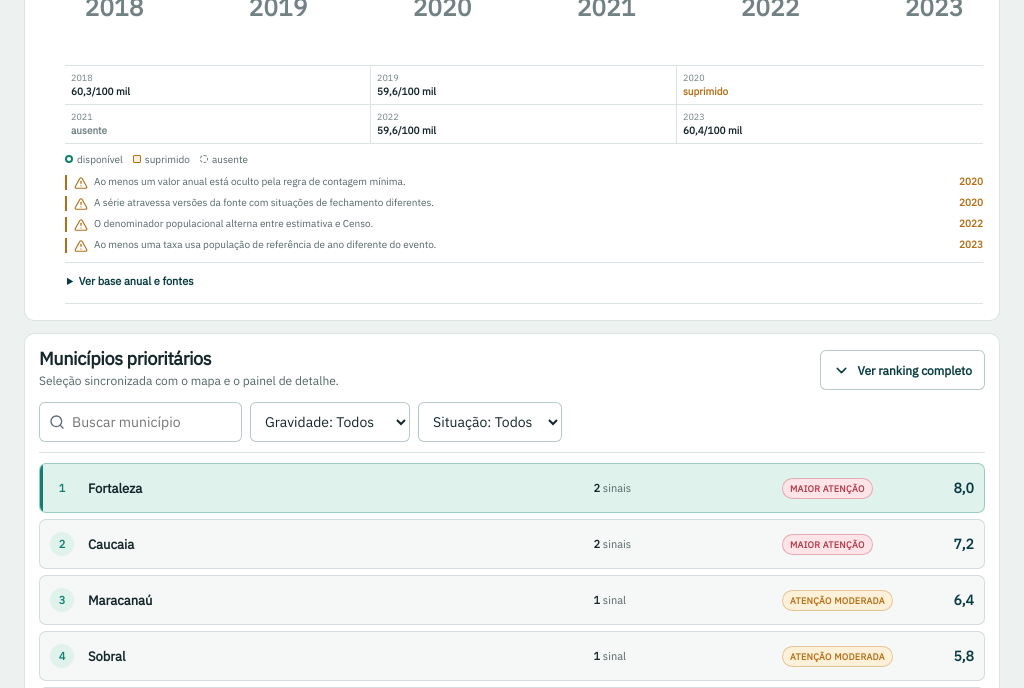
Test case: App › keeps ranking filters visible and shows six rows before expansion
(page scrolled)
Expected: the field labelled "Buscar município" is shown, [39,402,242,442]
Expected: the dropdown named "Gravidade" is shown, [250,402,410,442]
Click the button "Ver ranking completo" at (903, 370), box [820,350,985,390]
(page scrolled)
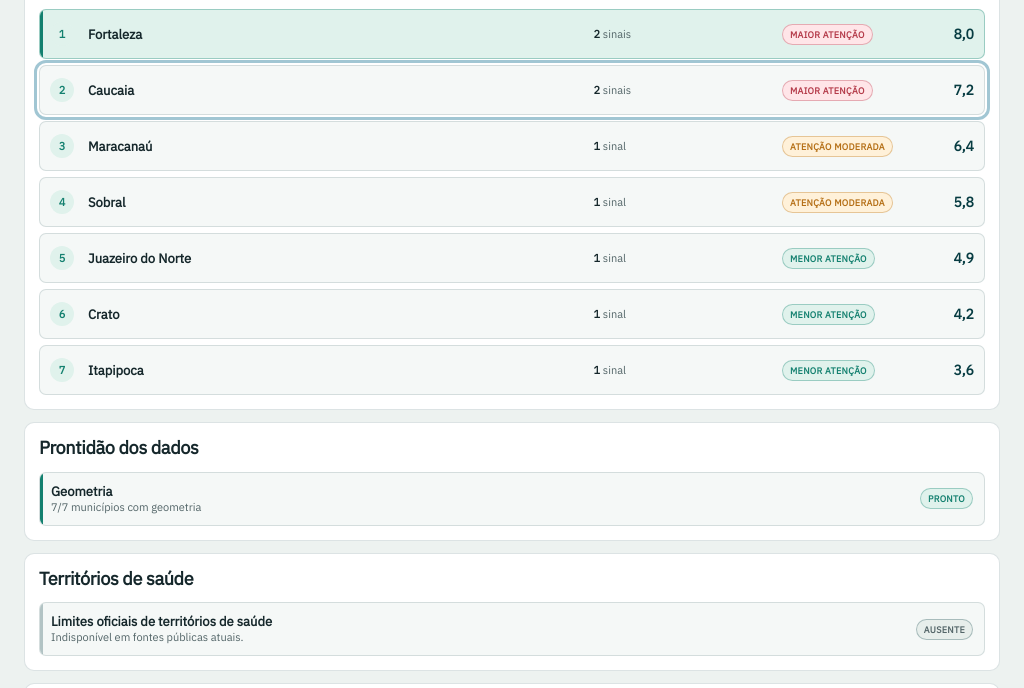
Expected: the button "7 Itapipoca 1 sinal menor atenção 3,6" is shown, [39,345,985,395]
Press Enter
(page scrolled)
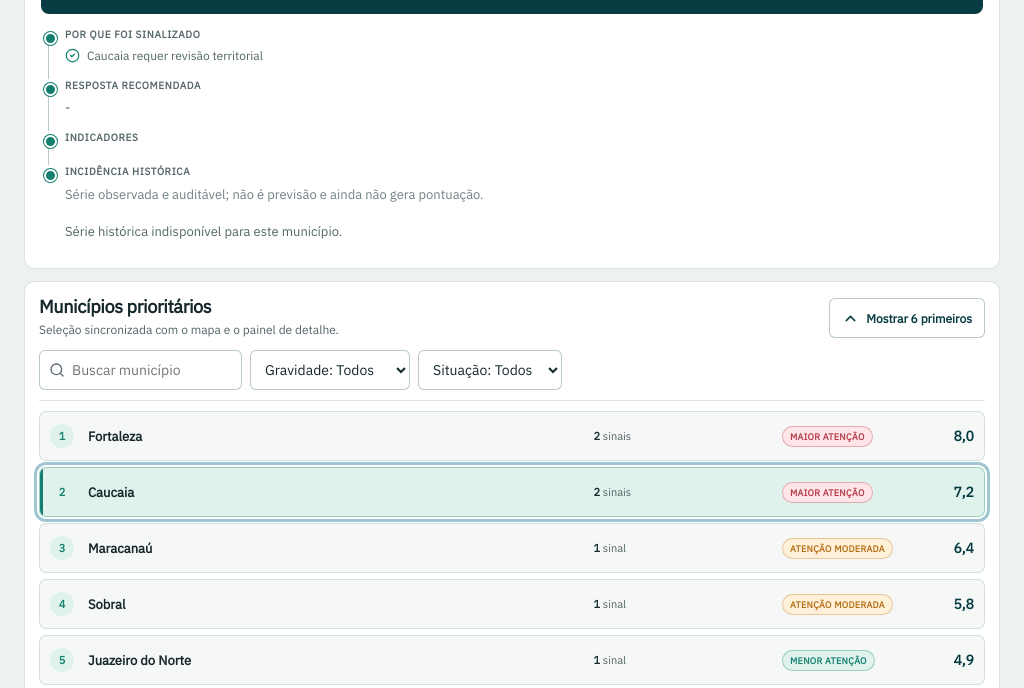
Expected: the button "2 Caucaia 2 sinais maior atenção 7,2" is pressed, [39,467,985,517]
Expected: the button "1 Fortaleza 2 sinais maior atenção 8,0" is not pressed, [39,411,985,461]
Select "atenção moderada" in the dropdown named "Gravidade" at (330, 370), box [250,350,410,390]
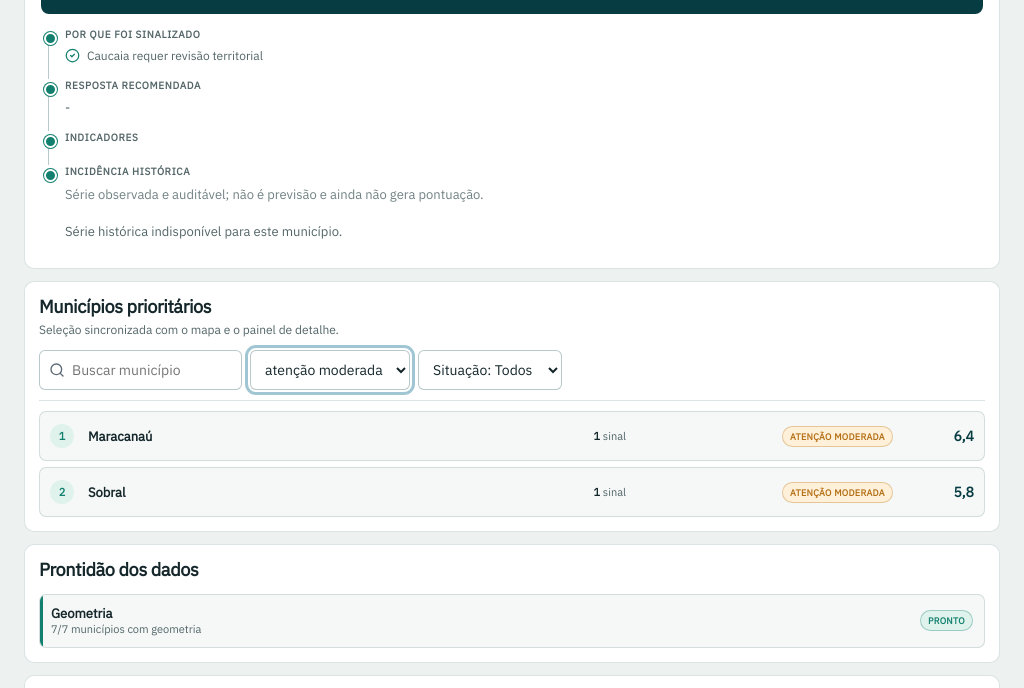
Expected: the field labelled "Buscar município" is shown, [39,350,242,390]
Expected: the button "Mostrar 6 primeiros" is gone
